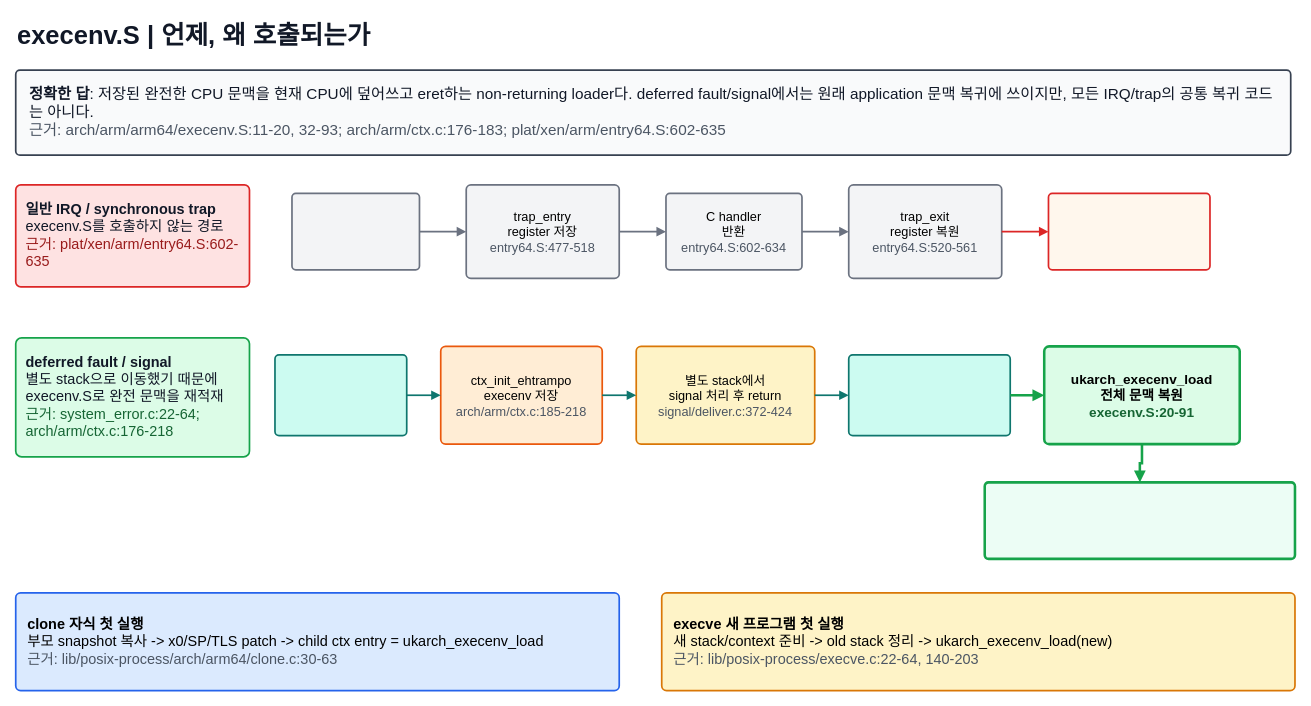
This 1311x706 diagram has some shape labels left out. The box of each missing label's shape, as (x1, y1, x2, y2) in pixels:
ehtrampo_dispatcher arch/arm/ctx.c:176-183: (847, 354, 1011, 436)
eret -> 저장된 ELR_EL1/SPSR_EL1 문맥 근거: arch/arm/arm64/execenv.S:59-66, 85-93: (983, 481, 1296, 560)
eret entry64.S:607,616,625,634: (1047, 192, 1210, 270)
fault event system_error.c:69-108: (274, 354, 407, 436)
vector entry64.S:572-596: (291, 192, 420, 270)
